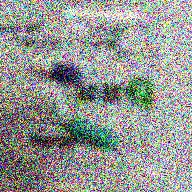러키펜정: (118, 30, 148, 53)
씨엠지세파클러캡슐: (29, 58, 83, 84)
에르도캡슐: (65, 118, 121, 151)
휴티렌정: (129, 77, 155, 110)
